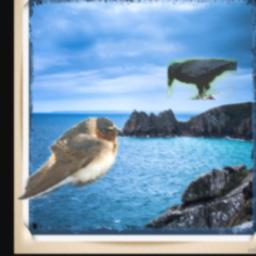Crow: (167, 59, 236, 101)
Swallow: (16, 117, 121, 201)
